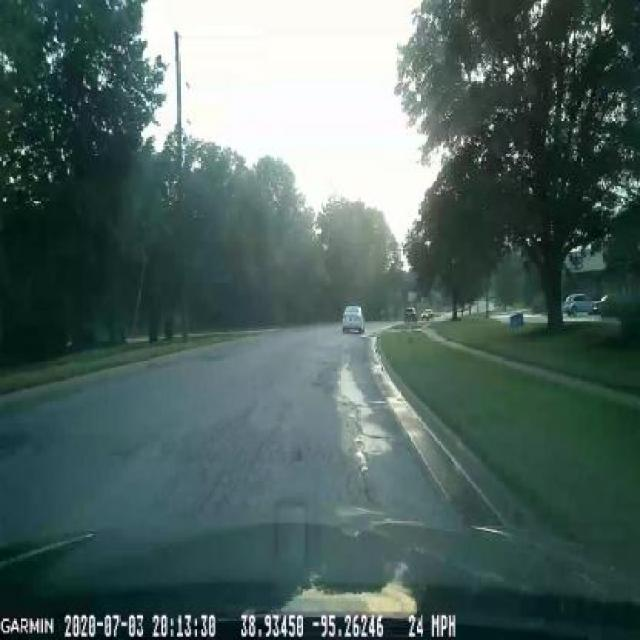Pothole: (338, 395, 370, 471)
